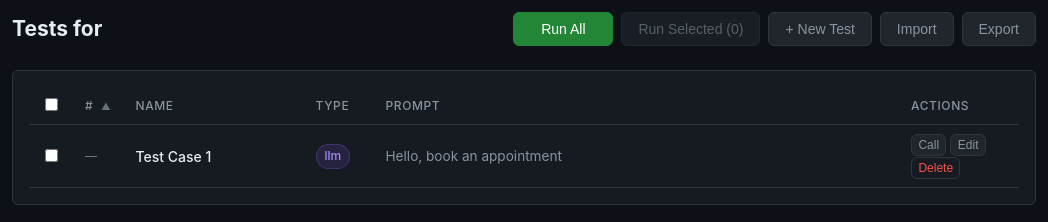
Test case: TestsView - Run Selected › should have Run Selected button enabled when a test is selected
The image size is (1048, 222).
expect the button "Run Selected (0)" is disabled: met, box [621,12,760,46]
Select a test
Click the checkbox next to "Test Case 1" at (52, 155), box [45,149,58,162]
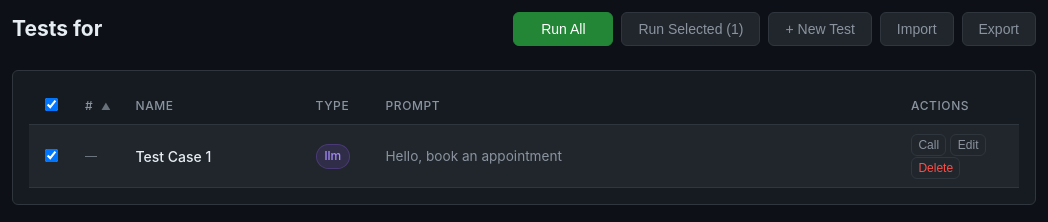
expect the button "Run Selected (1)" is enabled: met, box [621,12,760,46]
